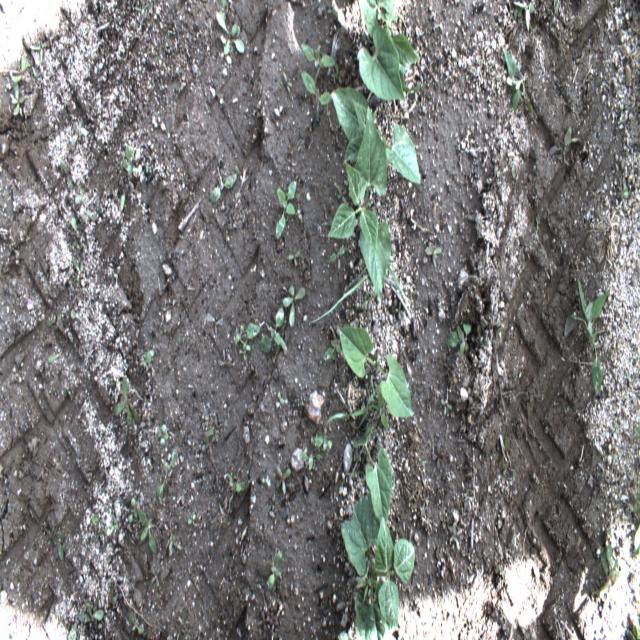crop: (327, 105, 391, 302), (342, 489, 415, 638), (331, 86, 422, 185), (338, 326, 412, 419), (356, 1, 421, 100), (351, 421, 393, 530)
weed: (307, 263, 413, 326), (563, 276, 609, 397), (502, 46, 536, 119), (114, 377, 142, 428), (259, 303, 286, 355), (596, 539, 619, 598), (215, 10, 245, 55), (326, 402, 374, 430), (274, 180, 296, 240), (547, 124, 579, 165), (300, 72, 333, 110), (445, 324, 482, 356), (282, 283, 306, 330), (235, 321, 261, 360), (302, 42, 336, 68), (322, 328, 348, 360), (138, 507, 156, 553), (209, 174, 237, 202), (500, 434, 518, 475), (156, 458, 173, 499), (79, 598, 103, 626), (268, 548, 283, 592), (512, 1, 534, 31), (8, 52, 27, 86), (66, 613, 86, 639), (120, 144, 133, 180), (70, 120, 88, 146), (12, 80, 24, 118), (626, 608, 640, 640), (376, 389, 387, 428), (226, 472, 246, 493), (205, 314, 224, 336), (273, 466, 291, 489), (129, 607, 145, 632), (300, 454, 322, 472), (430, 440, 444, 468), (360, 289, 379, 308), (144, 342, 158, 366), (72, 258, 86, 282), (312, 433, 333, 449), (450, 522, 461, 552), (156, 425, 170, 448), (129, 497, 142, 521), (424, 246, 442, 263), (216, 346, 233, 364), (328, 248, 347, 264), (287, 248, 301, 268), (204, 434, 217, 454), (57, 530, 65, 562), (394, 300, 405, 322), (440, 398, 452, 418), (460, 385, 472, 404), (633, 493, 639, 529), (333, 61, 342, 84), (168, 532, 176, 557), (283, 70, 292, 92), (48, 352, 64, 364), (326, 3, 339, 17), (620, 180, 629, 200), (337, 186, 347, 204), (440, 352, 449, 372), (461, 412, 470, 432), (188, 510, 197, 526), (91, 512, 101, 526), (633, 420, 640, 439), (277, 391, 284, 407), (110, 520, 119, 532), (331, 67, 337, 82), (260, 476, 268, 486), (614, 421, 619, 436), (562, 404, 568, 416)
